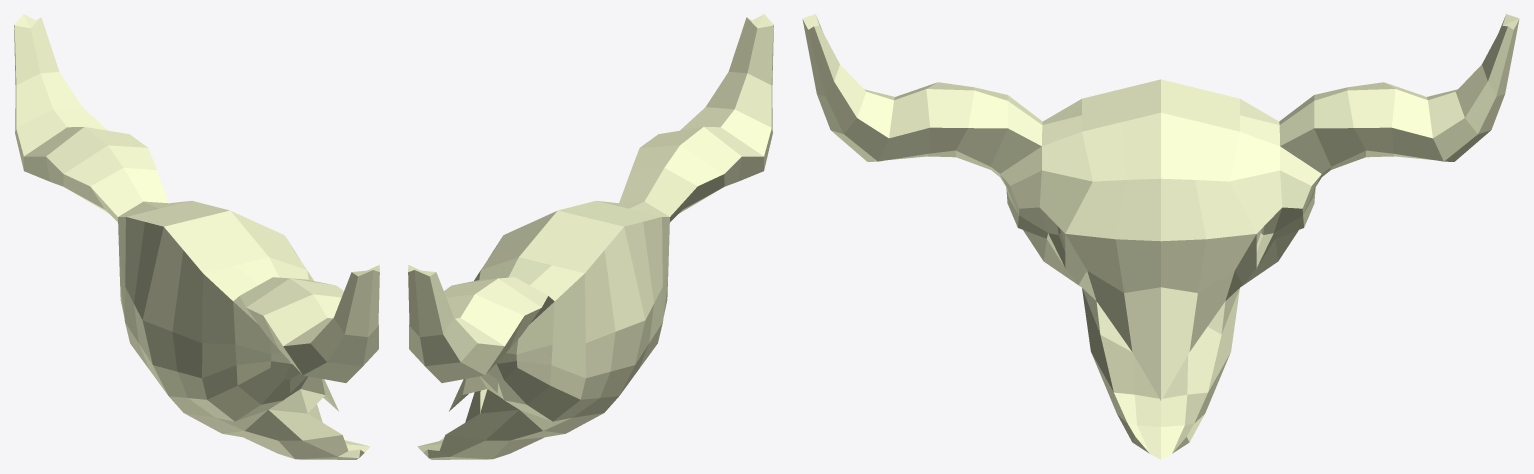
Rendered from ModelDontUse.fbx.
3 views of the same model, side by side, from view 1: azimuth 30°, elevation 25°; view 2: azimuth 150°, elevation 25°; view 3: azimuth 270°, elevation 25° (orthographic). The views are drawn at different scales.
Visible parts, largest first — view 1: Bizon's Skull; view 2: Bizon's Skull; view 3: Bizon's Skull.
Boxes of the visible parts, x1,y1,x2,y2 form: Bizon's Skull: (14, 14, 379, 459); Bizon's Skull: (408, 14, 773, 459); Bizon's Skull: (802, 14, 1519, 459).
Bounding box in the file's own units: 342 × 496 × 907.
